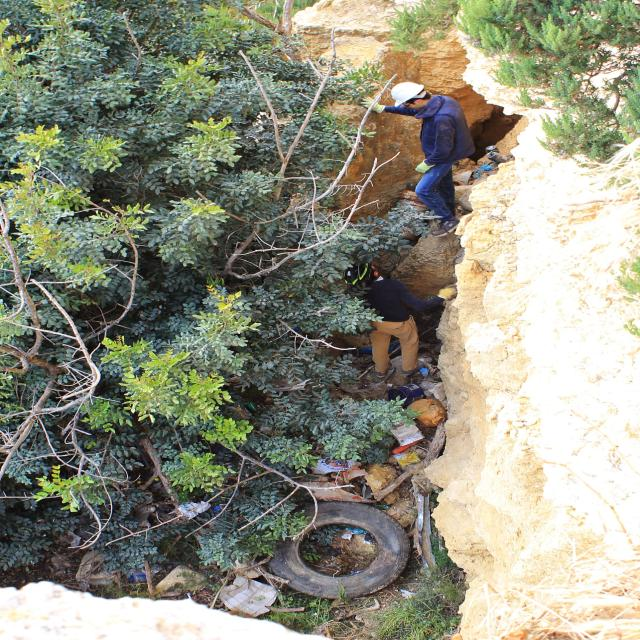Carton: (220, 574, 280, 618), (389, 420, 425, 446)
Other litter: (270, 502, 411, 599), (296, 456, 383, 503), (473, 145, 515, 179), (394, 190, 428, 214), (126, 565, 163, 585), (392, 437, 424, 454), (453, 170, 474, 186), (401, 230, 417, 241), (407, 182, 418, 192)
Other plastic: (406, 397, 454, 428), (388, 383, 426, 407), (178, 501, 212, 522), (392, 450, 425, 471), (419, 367, 432, 377), (389, 343, 400, 353), (361, 347, 373, 355), (212, 506, 223, 512)
